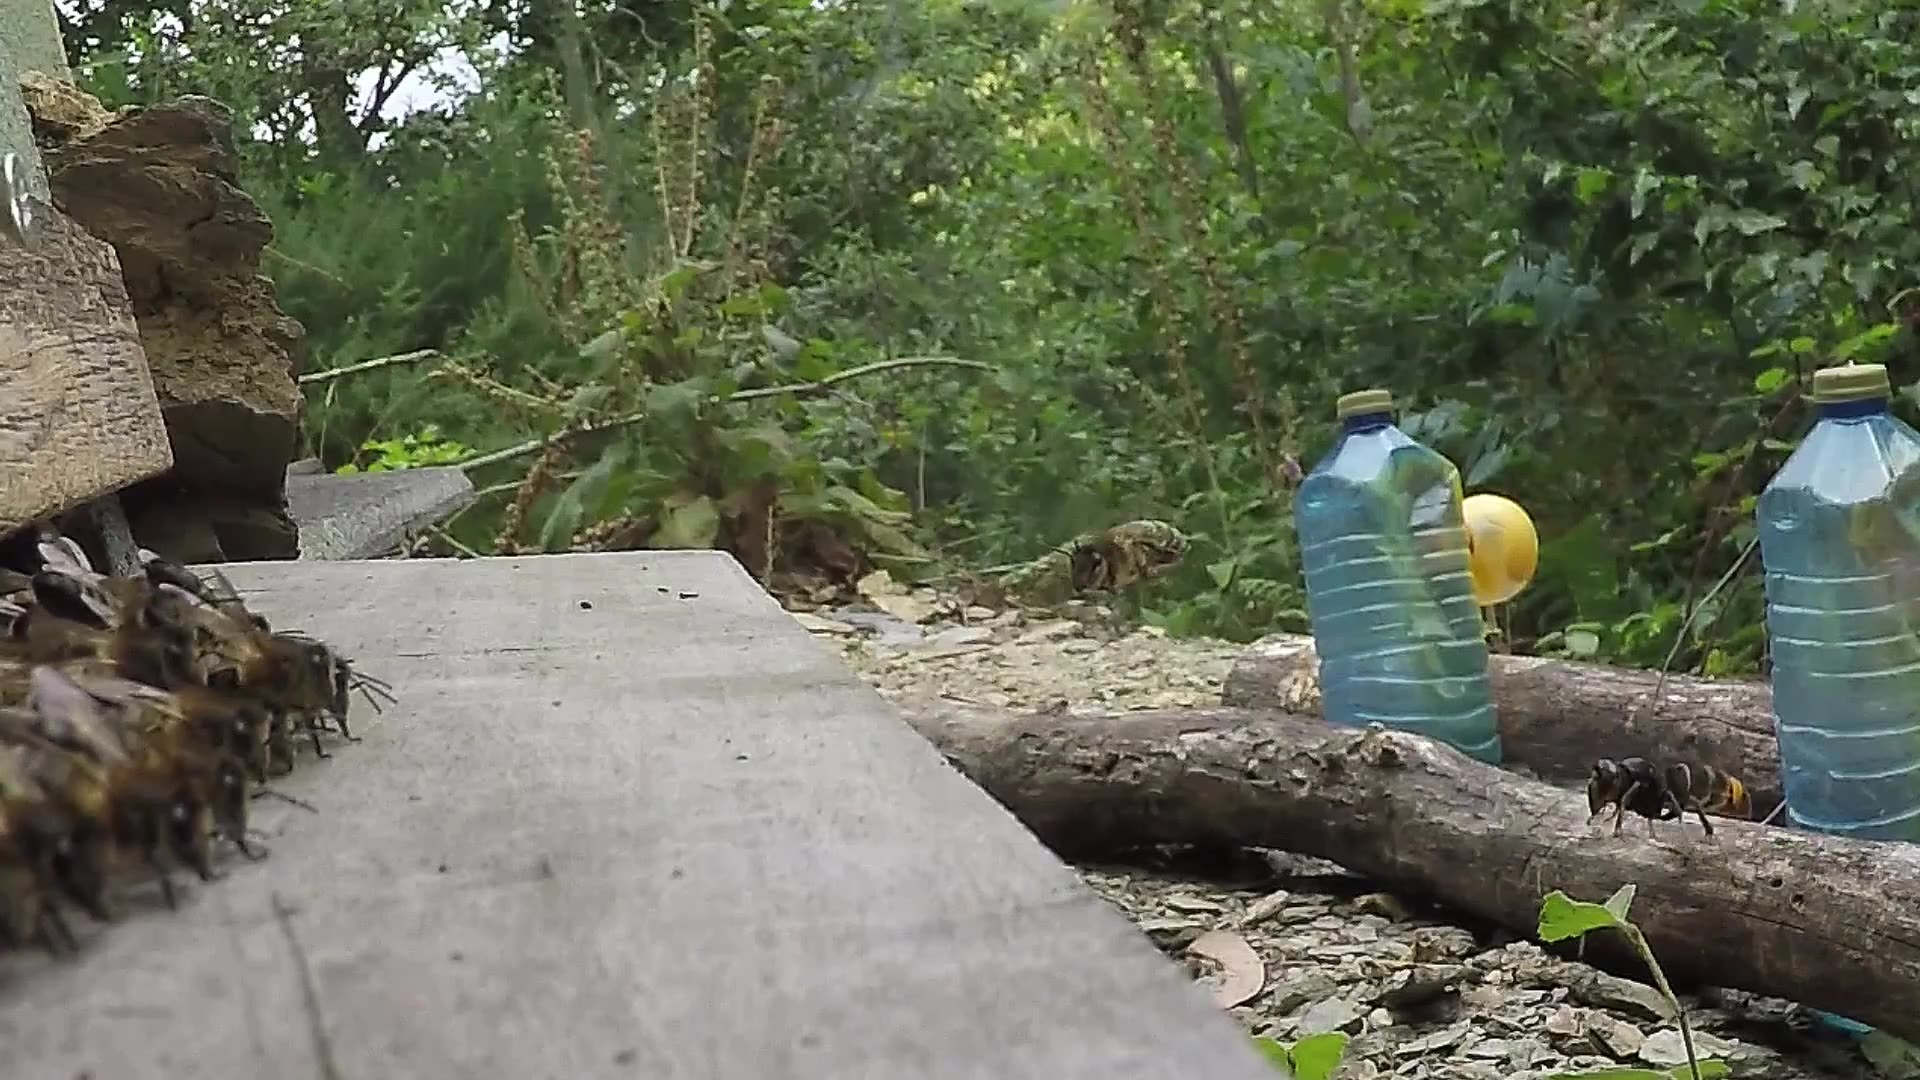bee: (1, 530, 364, 957), (1058, 513, 1207, 607)
hornet: (1565, 744, 1778, 851)
